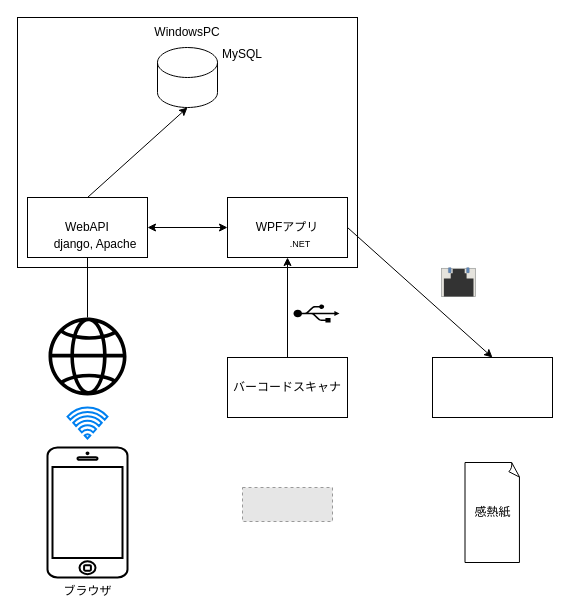
This 570x616 diagram has some shape labels left out. Grey dashed boxes stand in for pictures. The shapes that lost their labels are listed below. From the top down, each one's centre as x and y in pixels, then its label:
point (187, 77): 在庫DB
point (492, 387): サーマルプリンタ
